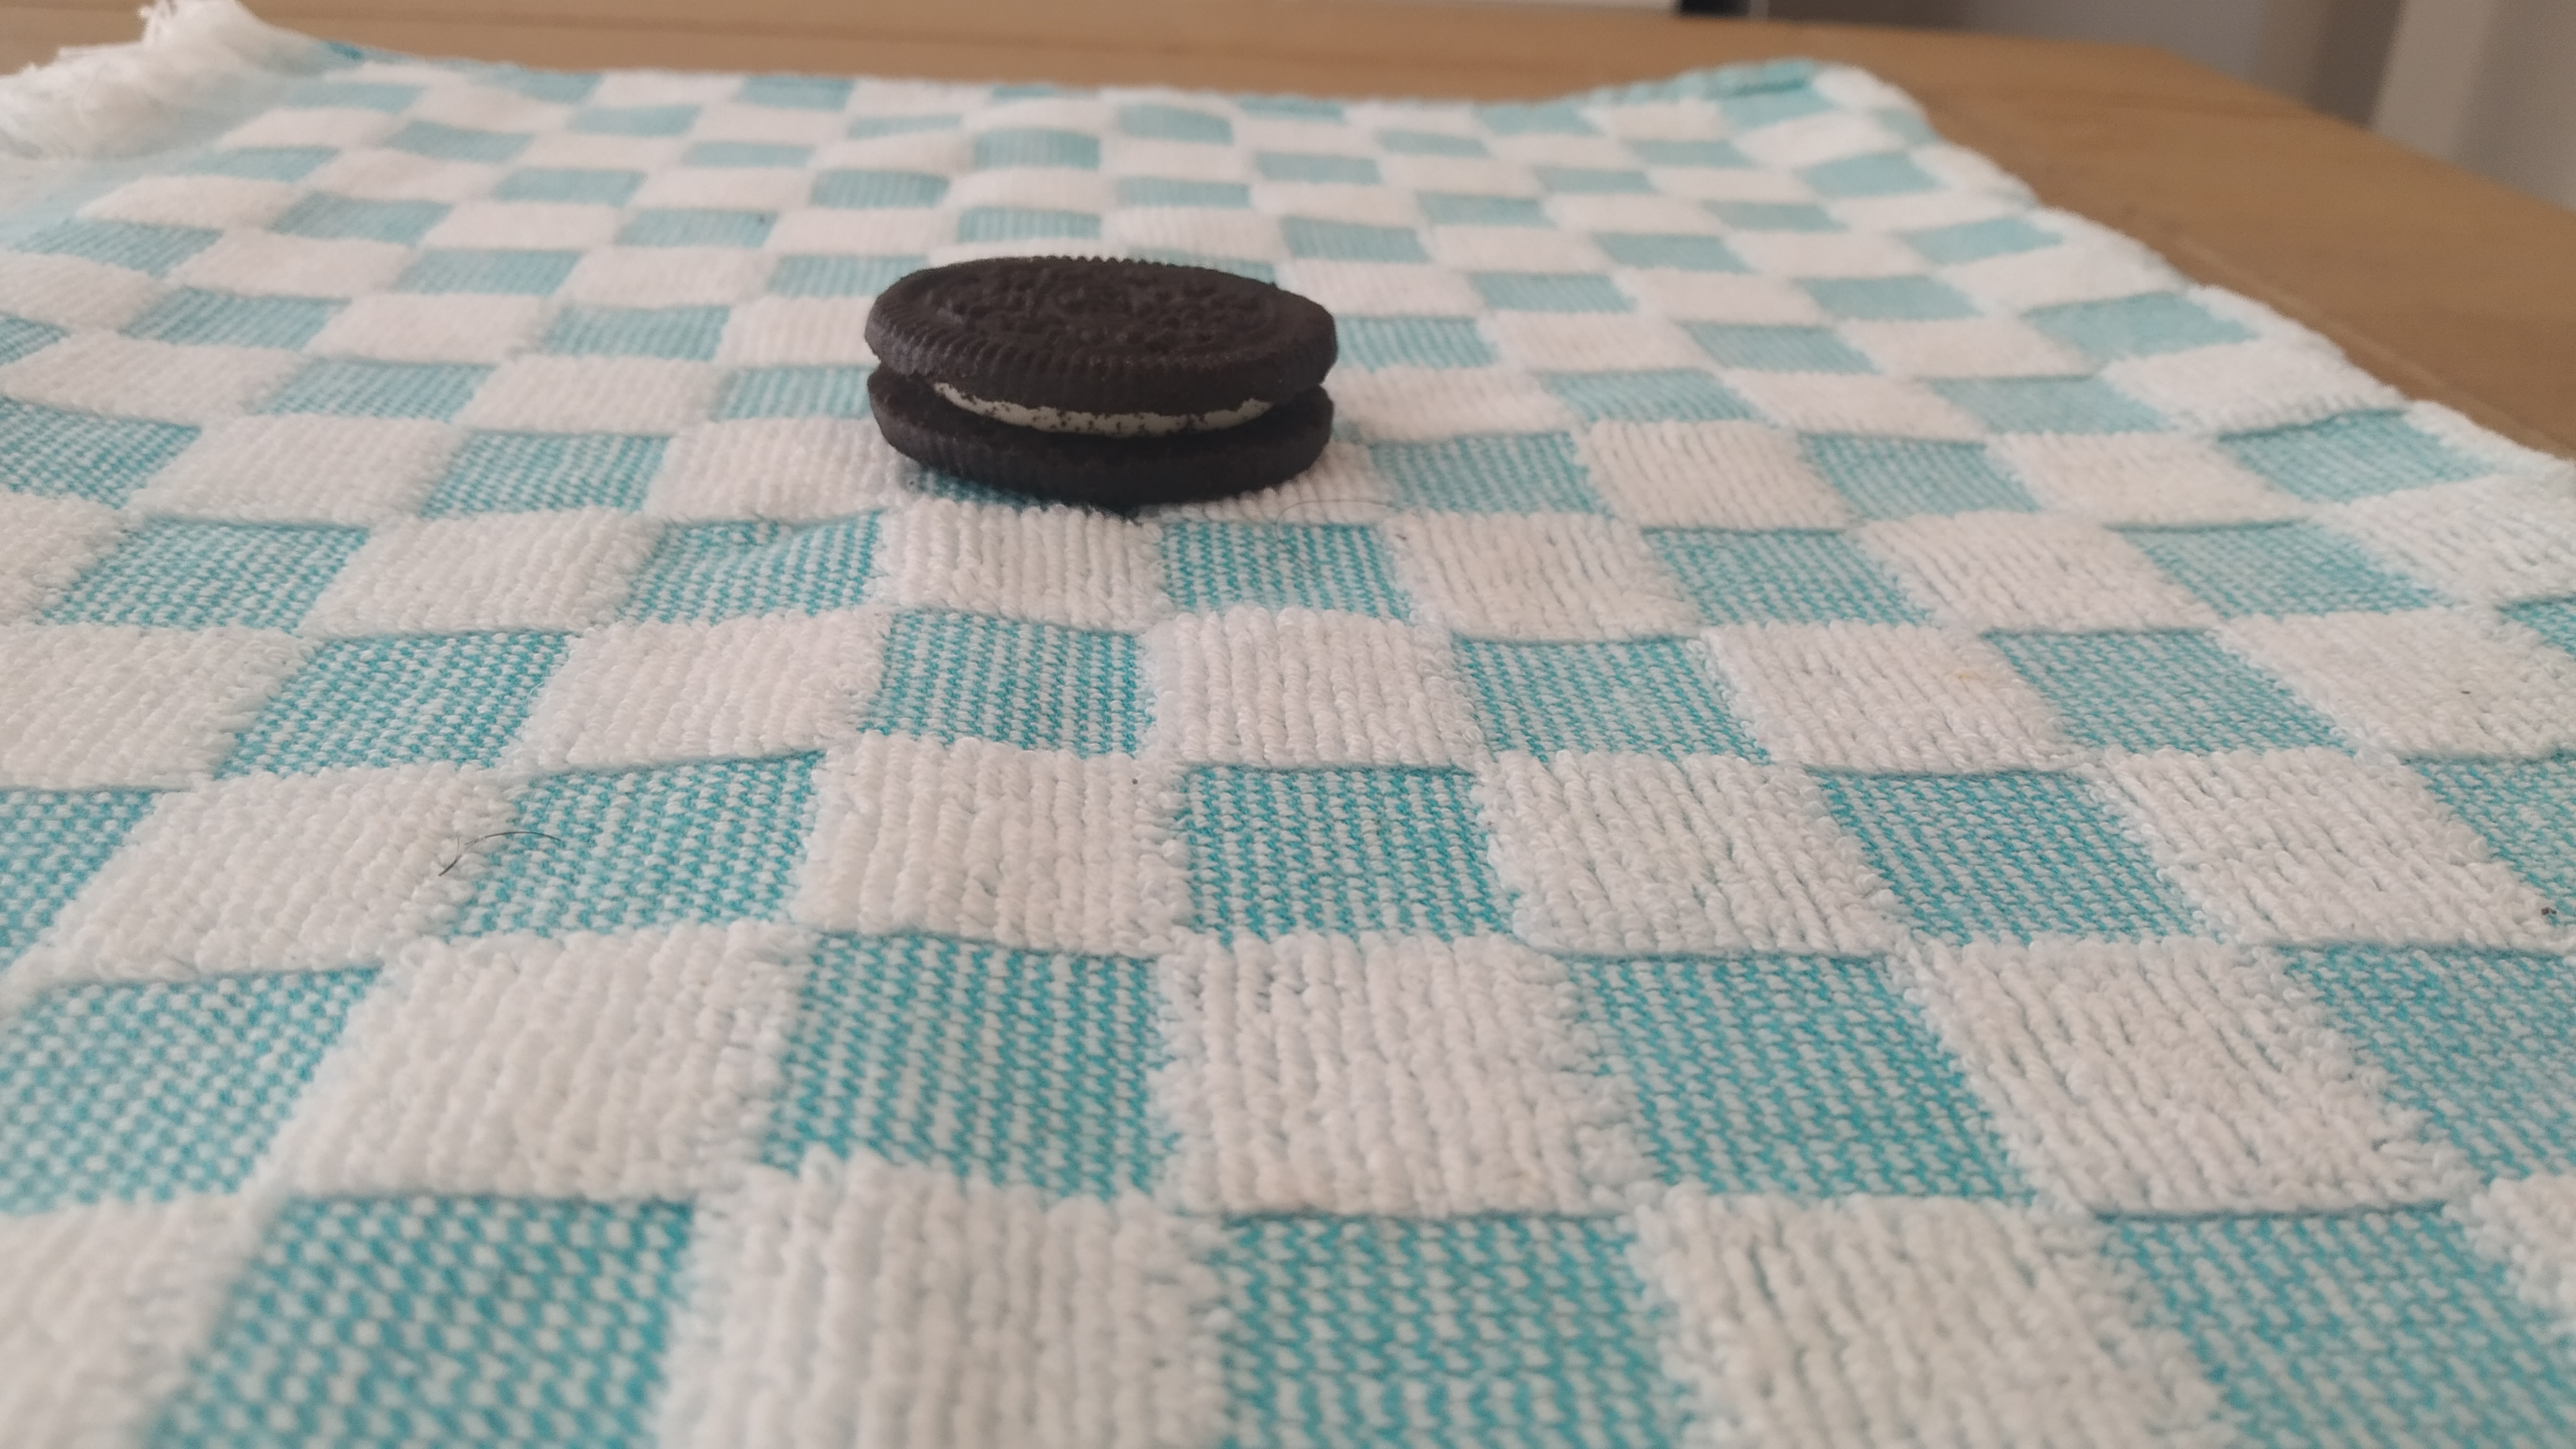oreo: (863, 255, 1338, 506)
